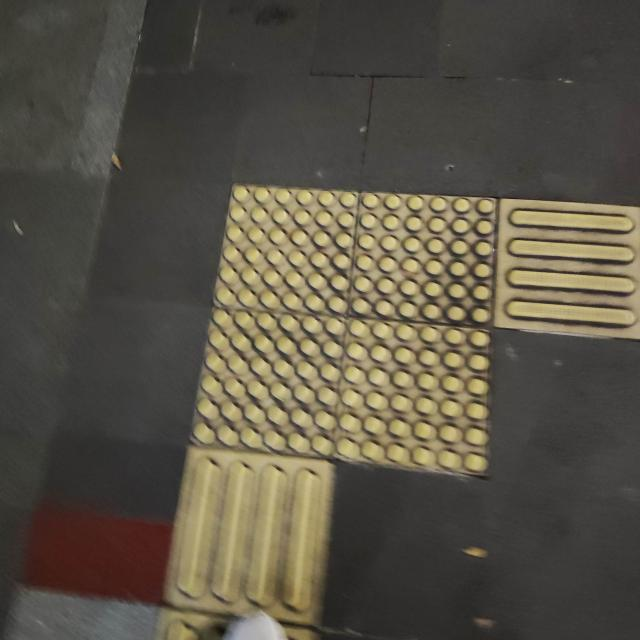kanan: (142, 152, 640, 566)
